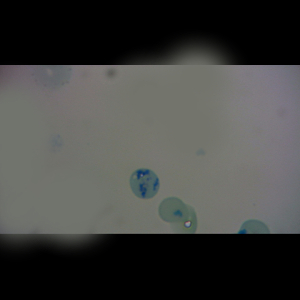aggregate reticulocyte: (129, 168, 160, 200)
erythrocyte: (157, 196, 190, 224), (171, 204, 199, 234)
